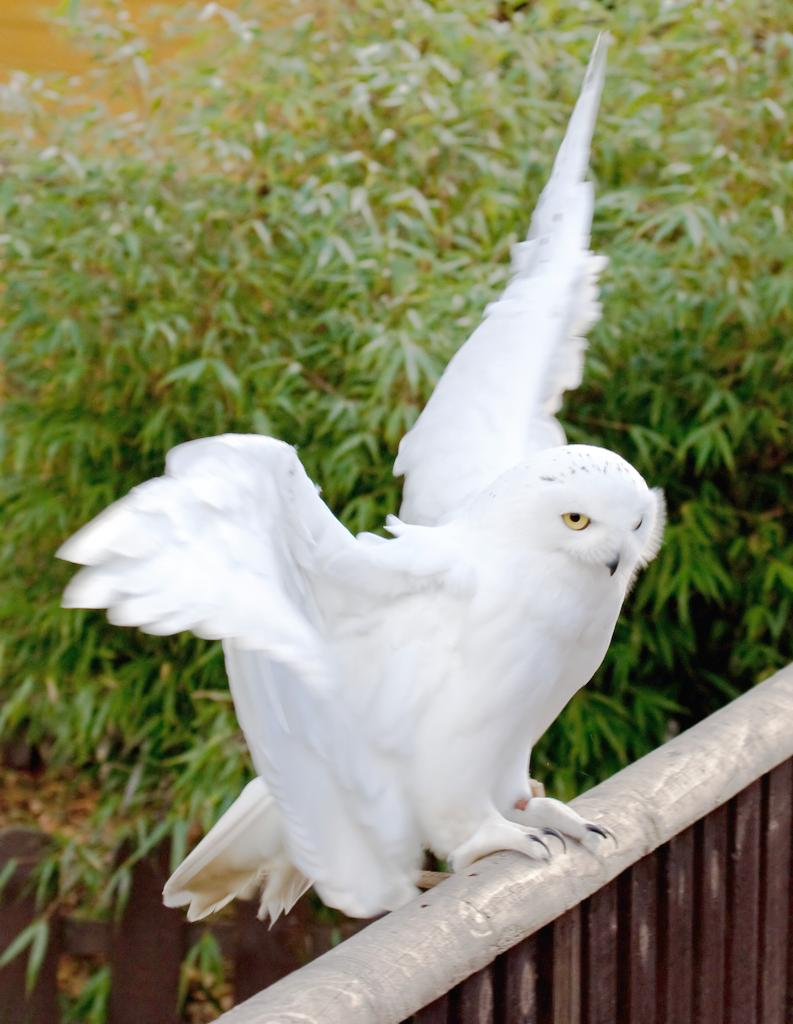Owl: (54, 30, 666, 930)
